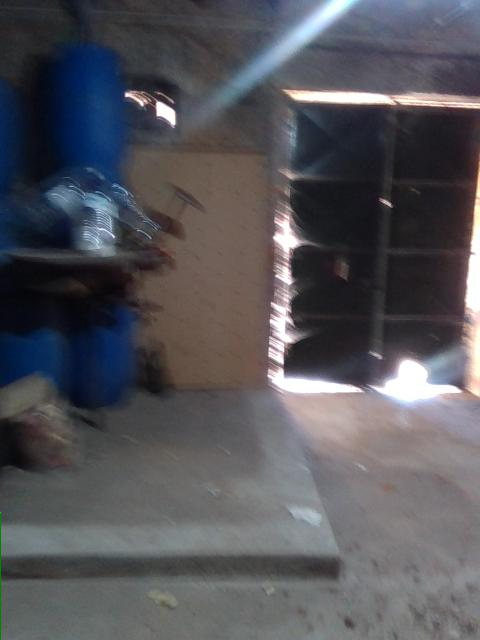door: (268, 100, 478, 387)
